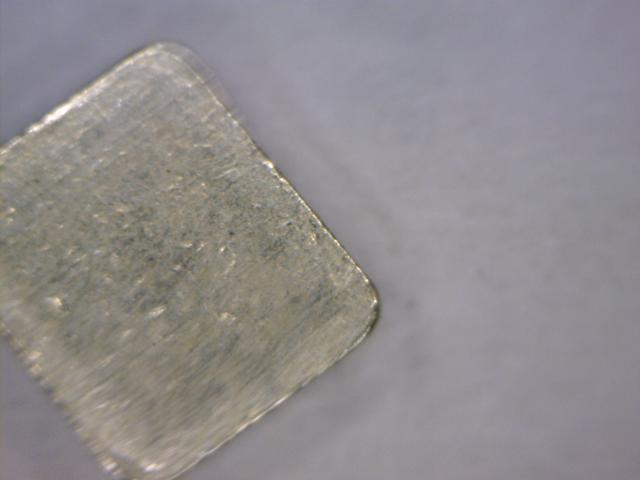ok: (6, 36, 383, 471)
